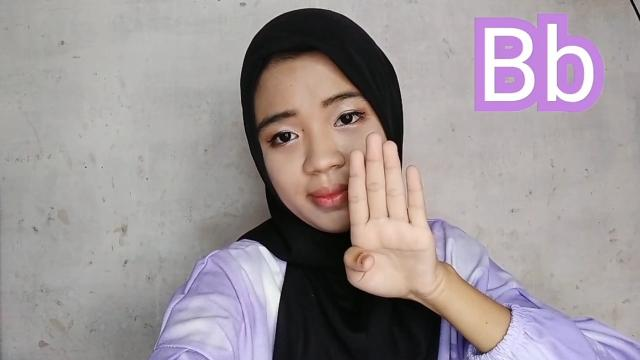B: (343, 130, 439, 300)
